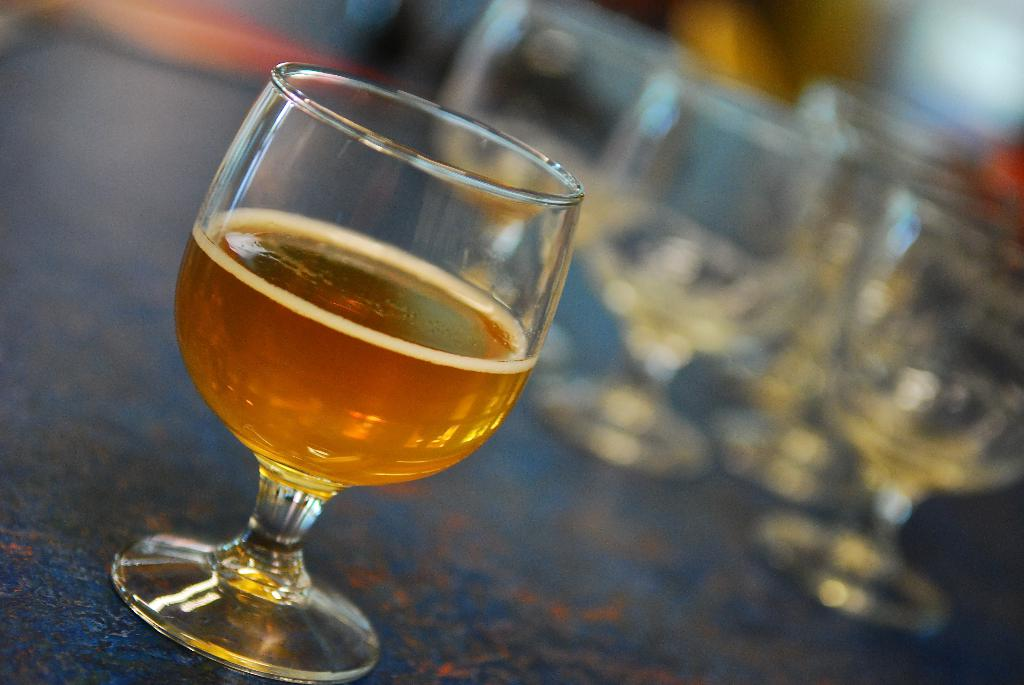Beer: (108, 46, 590, 684)
